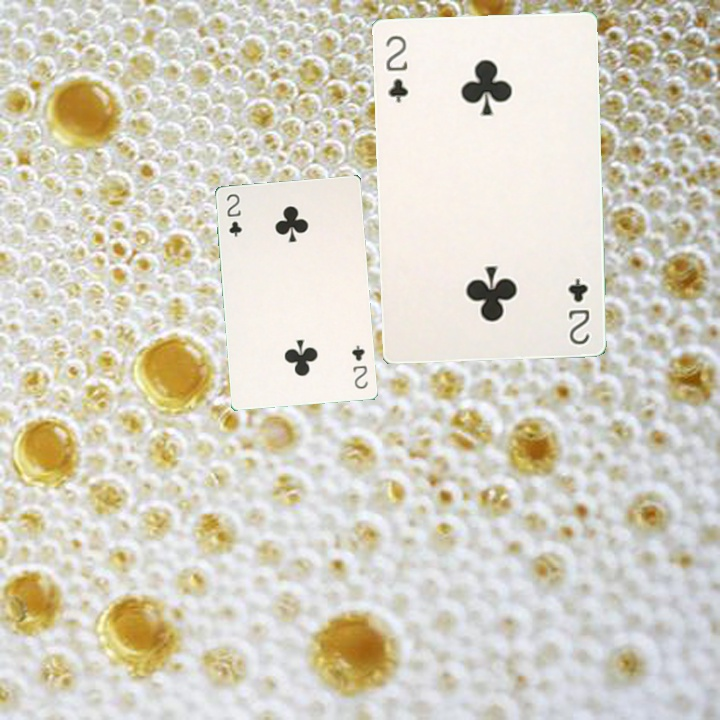2c: (381, 31, 411, 105), (564, 275, 592, 347), (348, 341, 370, 391), (222, 190, 244, 239)
